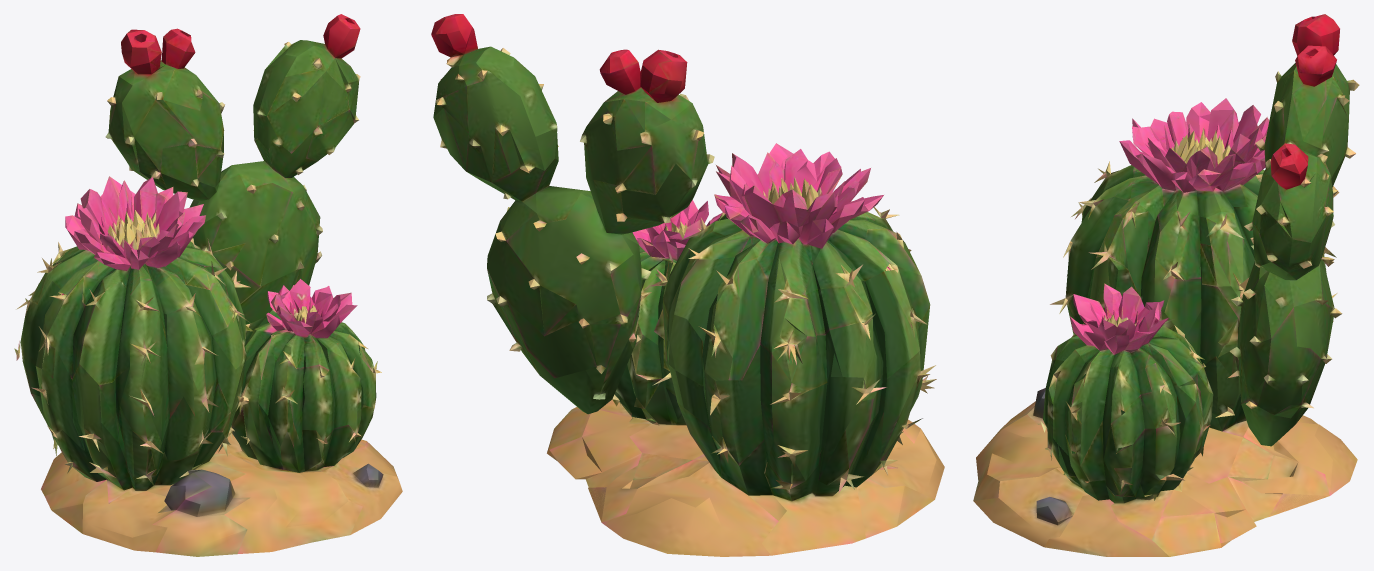
Rendered from desert_cluster.glb.
3 renders of one model, left to right at view 1: azimuth 30°, elevation 25°; view 2: azimuth 150°, elevation 25°; view 3: azimuth 270°, elevation 25°, orthographic. The views are drawn at different scales.
Size of the model in its own units: 1.83 by 1.9 by 1.47.
Materials: 1 (1 with a texture image).
